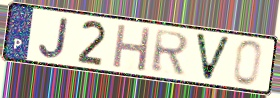0: (231, 38, 267, 88)
2: (76, 20, 107, 68)
H: (110, 22, 154, 73)
J: (37, 16, 71, 61)
R: (150, 28, 192, 76)
V: (193, 31, 233, 83)
